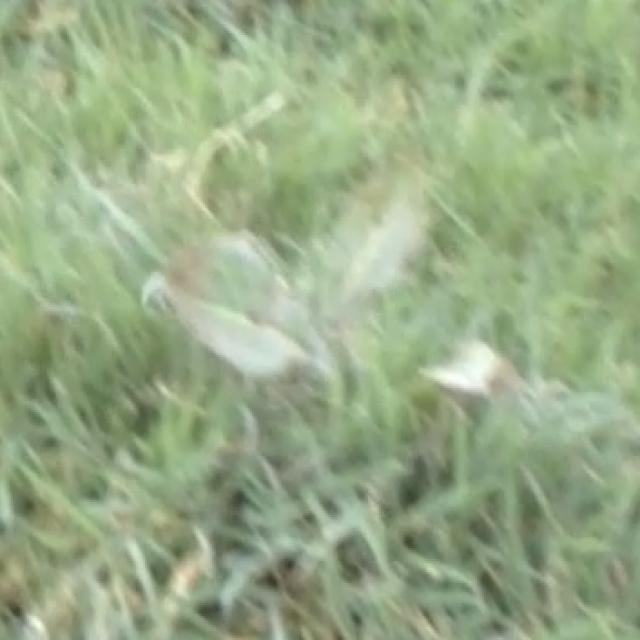organic waste: (145, 164, 462, 470)
